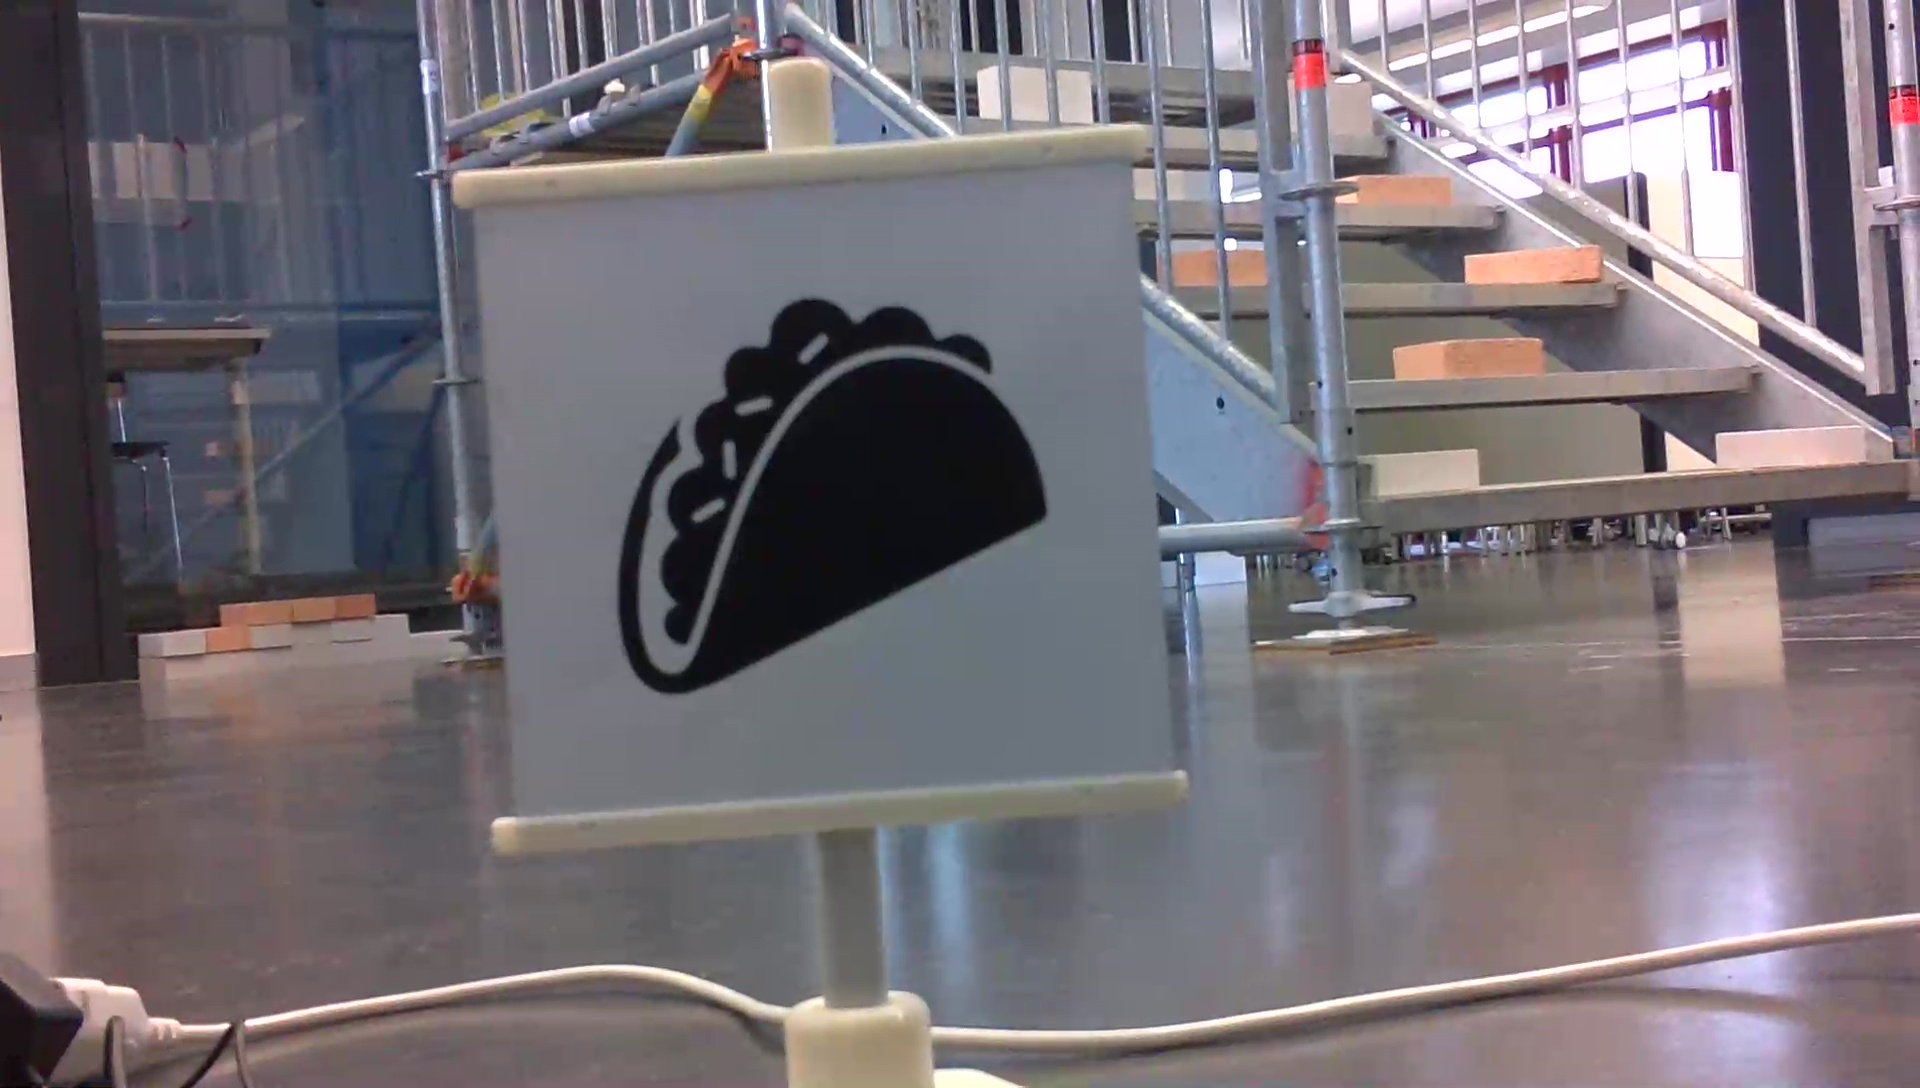brick: (1717, 426, 1865, 466), (1393, 340, 1542, 376), (1466, 245, 1597, 281), (1378, 450, 1474, 489), (1340, 175, 1447, 206), (1325, 83, 1370, 135)
edge: (1378, 462, 1917, 533), (1348, 363, 1766, 404), (1337, 276, 1629, 306)
taco: (605, 287, 1054, 711)
